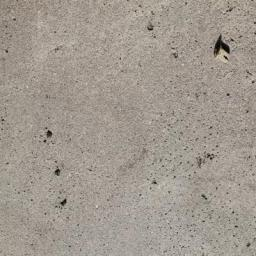FOD: (210, 35, 234, 67)
